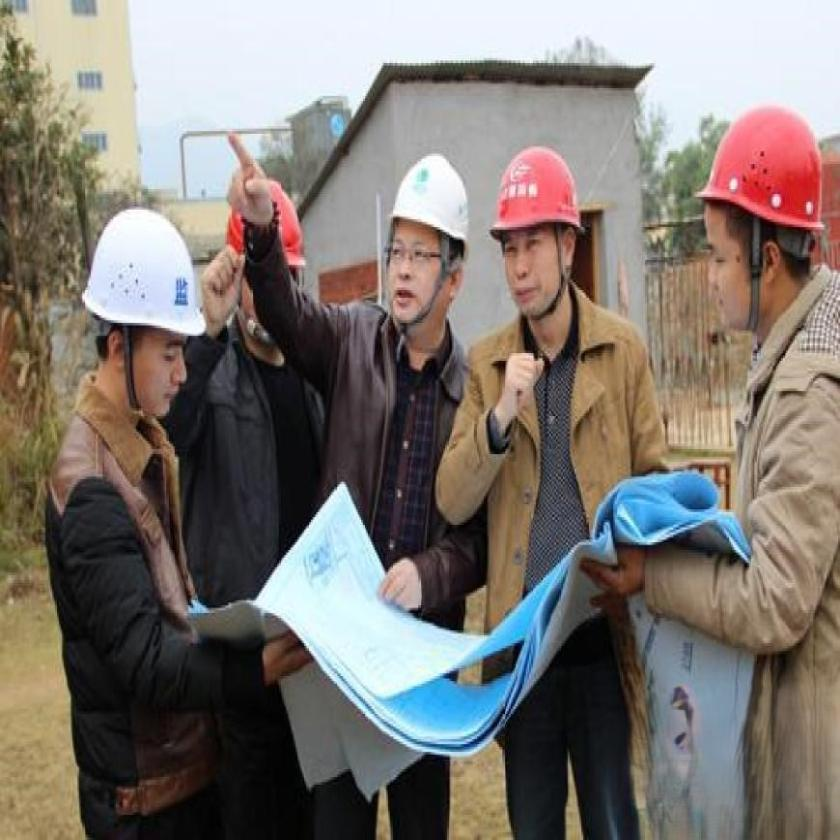Con_casco: (687, 82, 840, 348), (81, 192, 214, 442), (374, 148, 475, 353), (490, 147, 588, 347)
